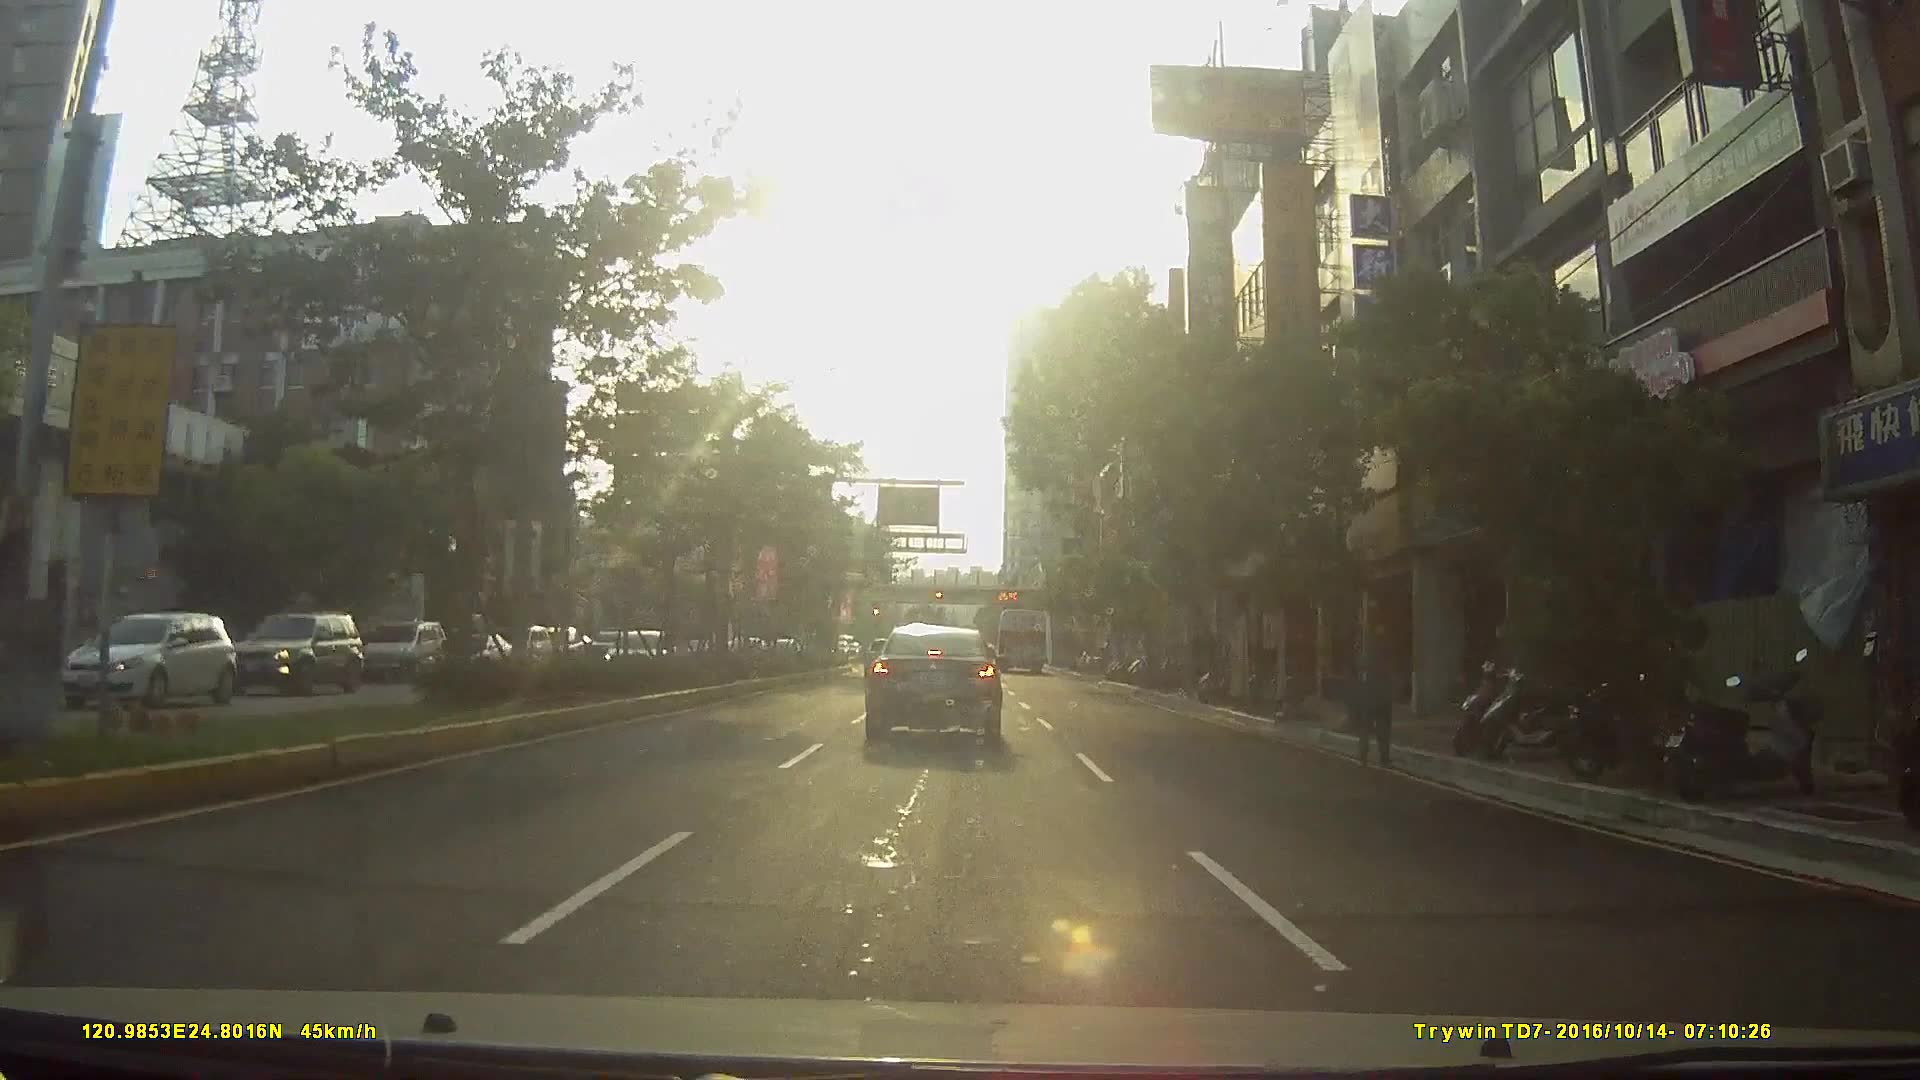pedestrian: (1343, 621, 1406, 764)
vehicle: (59, 604, 244, 708), (862, 620, 1002, 740), (217, 608, 369, 700), (358, 617, 442, 680), (996, 607, 1048, 674)
